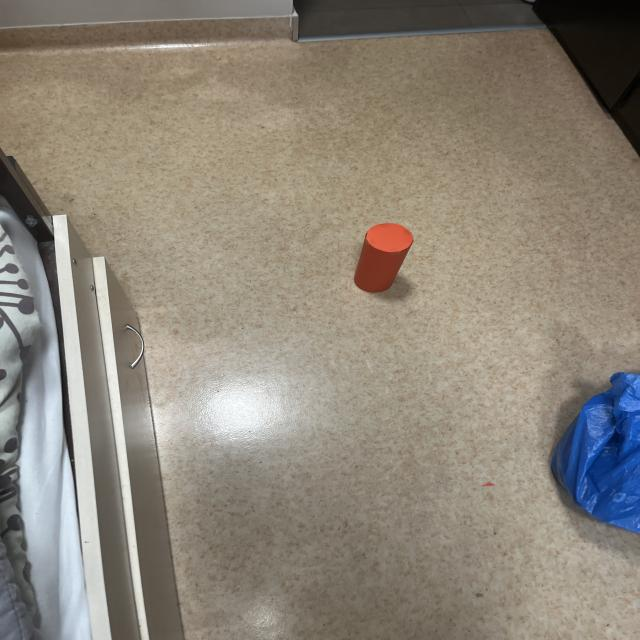przeszkoda: (354, 223, 413, 292)
